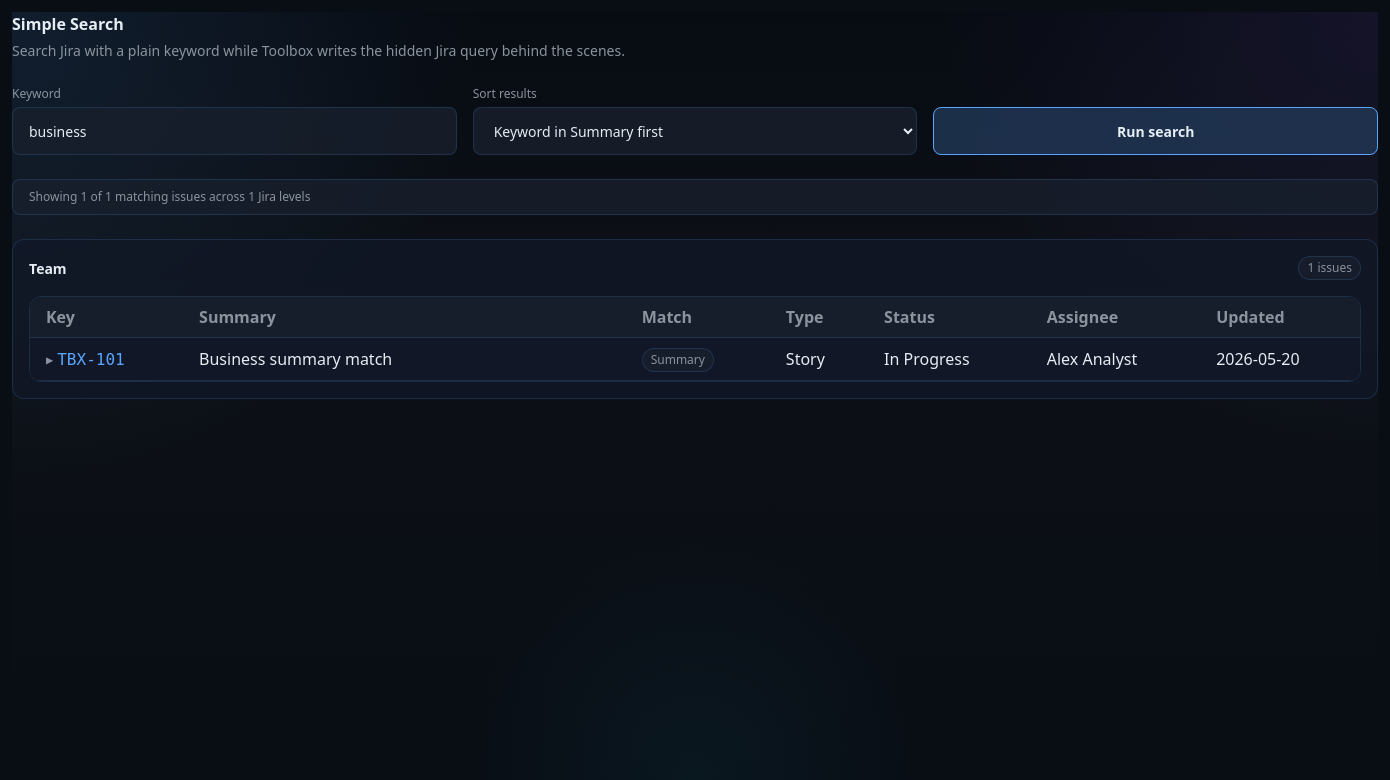
Test: SimpleSearchTab › expands a row to show description, child records, and linked issues with separate visual labels
Click the button with aria-label "Toggle details for TBX-101" at (85, 360), box [46, 348, 125, 372]
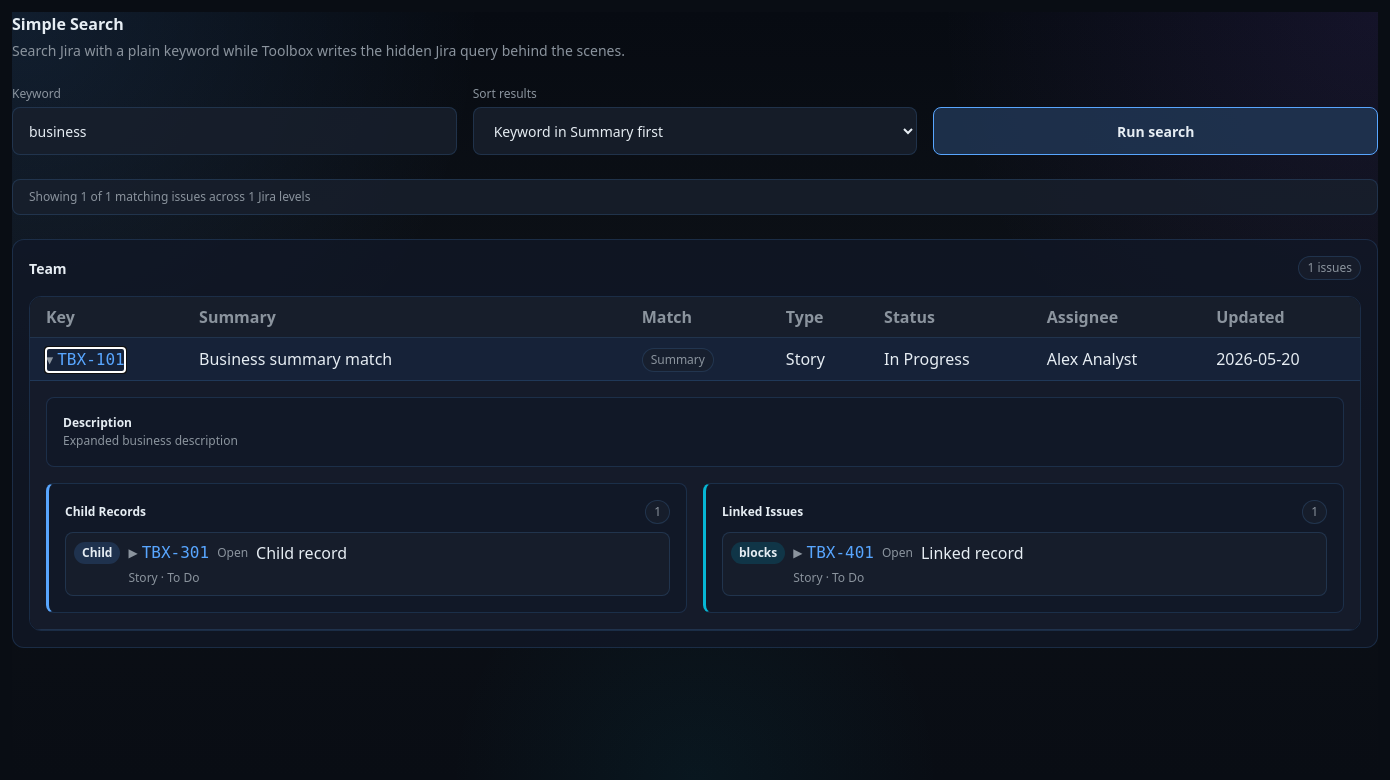
Result: the text "Expanded business description" is shown at [63, 432, 238, 449]
Result: the heading "Child Records" is shown at [65, 503, 146, 521]
Result: the heading "Linked Issues" is shown at [722, 503, 803, 521]
